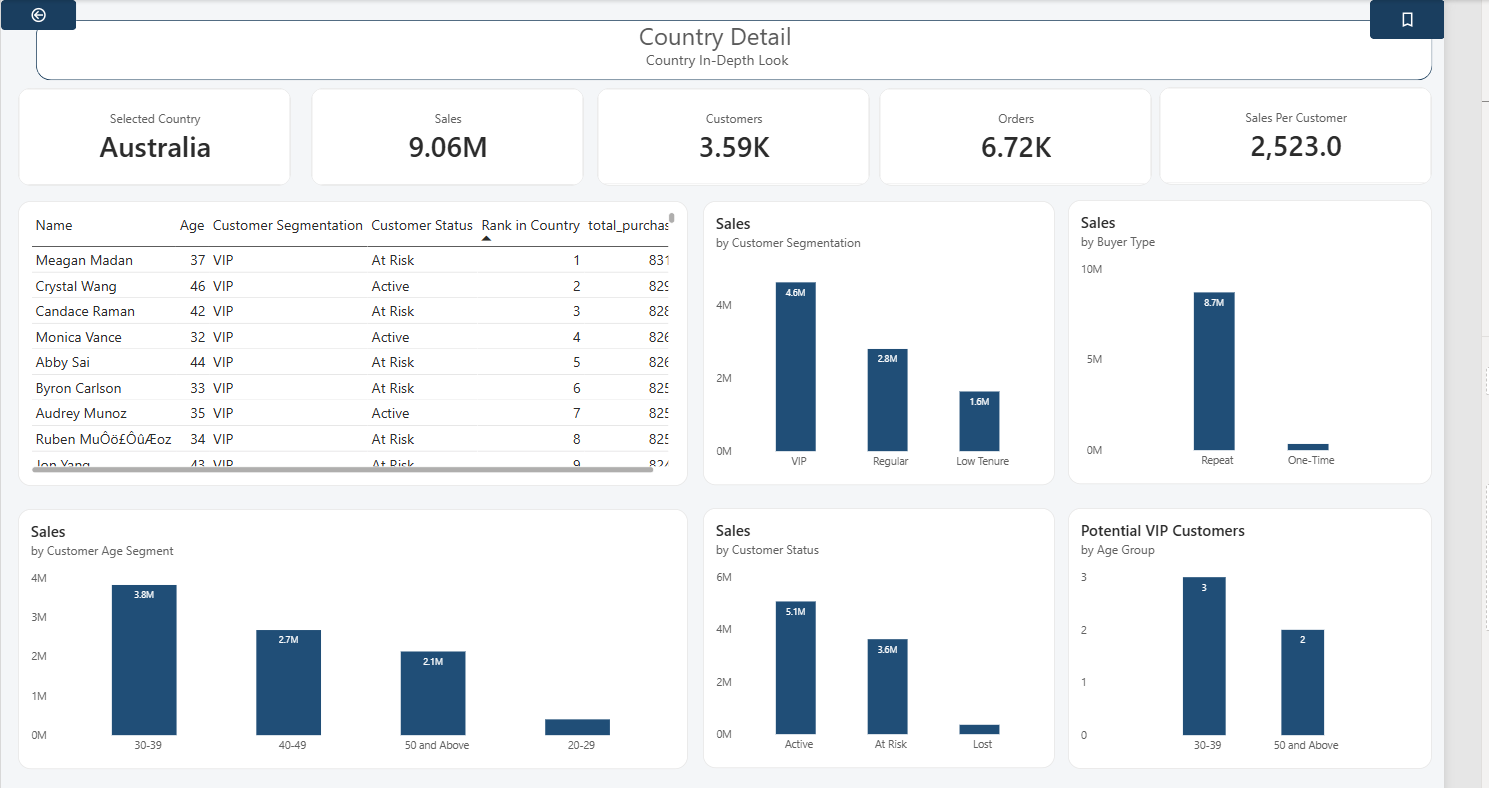

What the dashboard file says about the page in this screenshot:
{"tool":"powerbi","page":{"name":"Country Detail","canvas":[1920,1080],"ordinal":3},"visuals":[{"type":"shape","box":[46.7,26.3,1857.3,80.2],"z":0},{"type":"cardVisual","fields":{"Data":["Measure Table.Sales"]},"box":[412.3,117,363,130.3],"z":1000},{"type":"cardVisual","fields":{"Data":["Measure Table.Orders"]},"box":[1167.8,117,363,129.6],"z":2000},{"type":"cardVisual","fields":{"Data":["Measure Table.Customers"]},"box":[792.7,117,363,129.6],"z":3000},{"type":"cardVisual","fields":{"Data":["Measure Table.Sales Per Customer"]},"box":[1540.2,115.7,363,129.6],"z":4000},{"type":"textbox","box":[848.5,25.8,356.3,51.7],"z":5000},{"type":"textbox","box":[858,66.6,250.2,39.4],"z":6000},{"type":"clusteredColumnChart","title":"Sales ","fields":{"Category":["gold customer_report.customer_segmentation"],"Y":["Measure Table.Sales"]},"box":[933.7,267.3,468.2,377.7],"z":7000},{"type":"clusteredColumnChart","fields":{"Category":["gold customer_report.Buyer Type"],"Y":["Measure Table.Sales"]},"box":[1419.2,266,484.1,377.7],"z":8000},{"type":"clusteredColumnChart","title":"Sales","fields":{"Category":["gold customer_report.customer_status"],"Y":["Measure Table.Sales"]},"box":[933.7,675.7,468.2,345.8],"z":9000},{"type":"clusteredColumnChart","title":"Potential VIP Customers","fields":{"Category":["gold customer_report.customer_age_segment"],"Y":["Measure Table.Customers"]},"box":[1419.2,675.7,484.1,347.1],"z":10000},{"type":"actionButton","box":[0,0,100,40],"z":11000},{"type":"tableEx","fields":{"Values":["gold customer_report.customer_name","gold customer_report.age","Min(gold customer_report.customer_segmentation)","gold customer_report.customer_status","gold customer_report.customer_rank","gold customer_report.total_purchase"]},"box":[22.6,267.3,891.1,379.1],"z":12000},{"type":"clusteredColumnChart","title":"Sales","fields":{"Category":["gold customer_report.customer_age_segment"],"Y":["Measure Table.Sales"]},"box":[22.6,677,891.1,345.8],"z":13000},{"type":"actionButton","title":"No Filter","box":[1820.8,0,99.8,51.9],"z":14000},{"type":"cardVisual","fields":{"Data":["Measure Table.Selected Country"]},"box":[22.6,117,363,130.3],"z":14001}]}

Visuals, with their boxes on the page's 1920x1080 design canvas (x1, y1, x2, y2). These are canvas units, not pixel positions in the 1489x788 screenshot, which may show the page scaled, cropped or inside an application window:
shape: l=47, t=26, r=1904, b=106
cardVisual - Measure Table.Sales: l=412, t=117, r=775, b=247
cardVisual - Measure Table.Orders: l=1168, t=117, r=1531, b=247
cardVisual - Measure Table.Customers: l=793, t=117, r=1156, b=247
cardVisual - Measure Table.Sales Per Customer: l=1540, t=116, r=1903, b=245
textbox: l=848, t=26, r=1205, b=78
textbox: l=858, t=67, r=1108, b=106
"Sales " clusteredColumnChart: l=934, t=267, r=1402, b=645
clusteredColumnChart - gold customer_report.Buyer Type x Measure Table.Sales: l=1419, t=266, r=1903, b=644
"Sales" clusteredColumnChart: l=934, t=676, r=1402, b=1022
"Potential VIP Customers" clusteredColumnChart: l=1419, t=676, r=1903, b=1023
actionButton: l=0, t=0, r=100, b=40
tableEx - gold customer_report.customer_name x gold customer_report.age: l=23, t=267, r=914, b=646
"Sales" clusteredColumnChart: l=23, t=677, r=914, b=1023
"No Filter" actionButton: l=1821, t=0, r=1921, b=52
cardVisual - Measure Table.Selected Country: l=23, t=117, r=386, b=247
